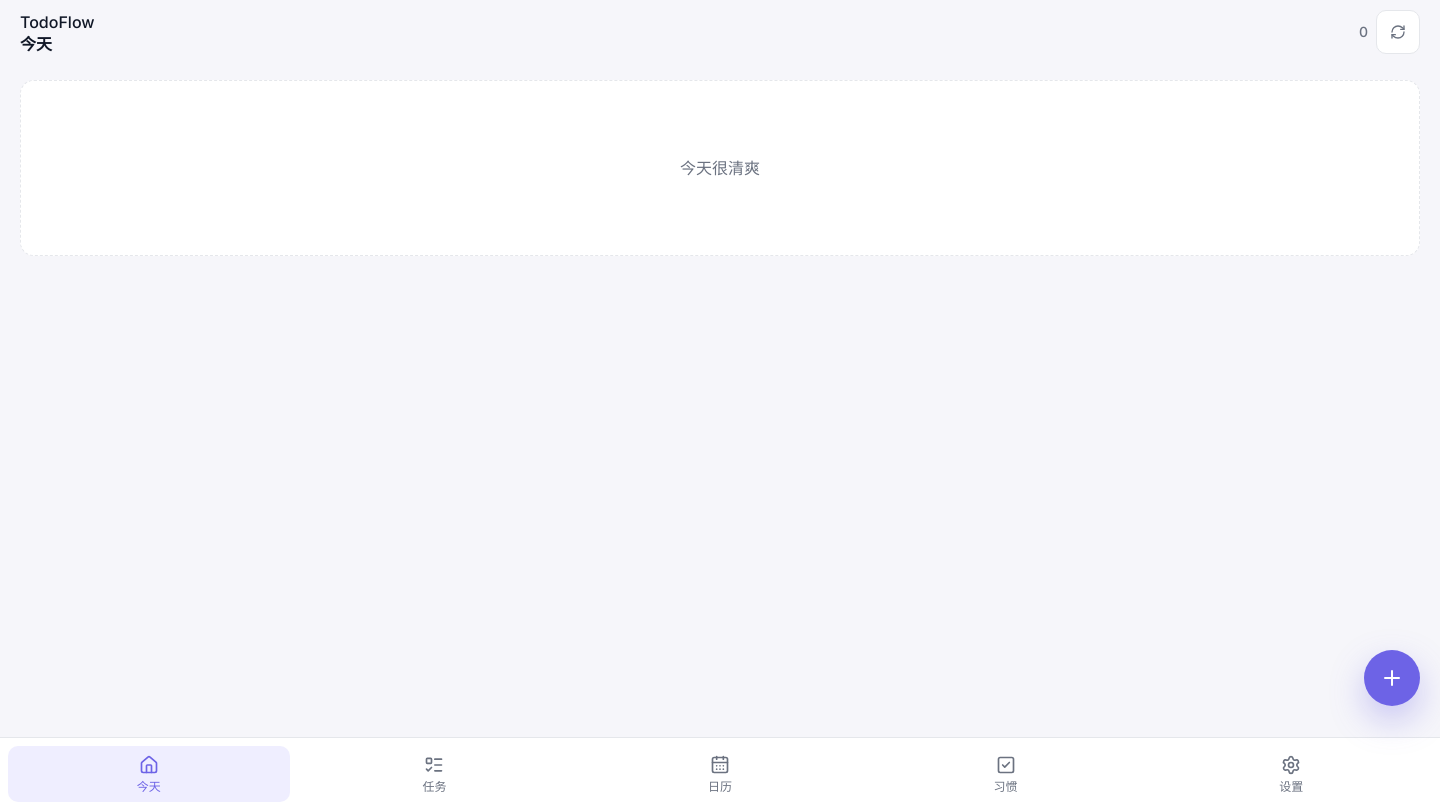
Mobile task experience › creates a task from the global mobile FAB
Click the button named "新增任务" at (1392, 678), box [1364,650,1420,706]
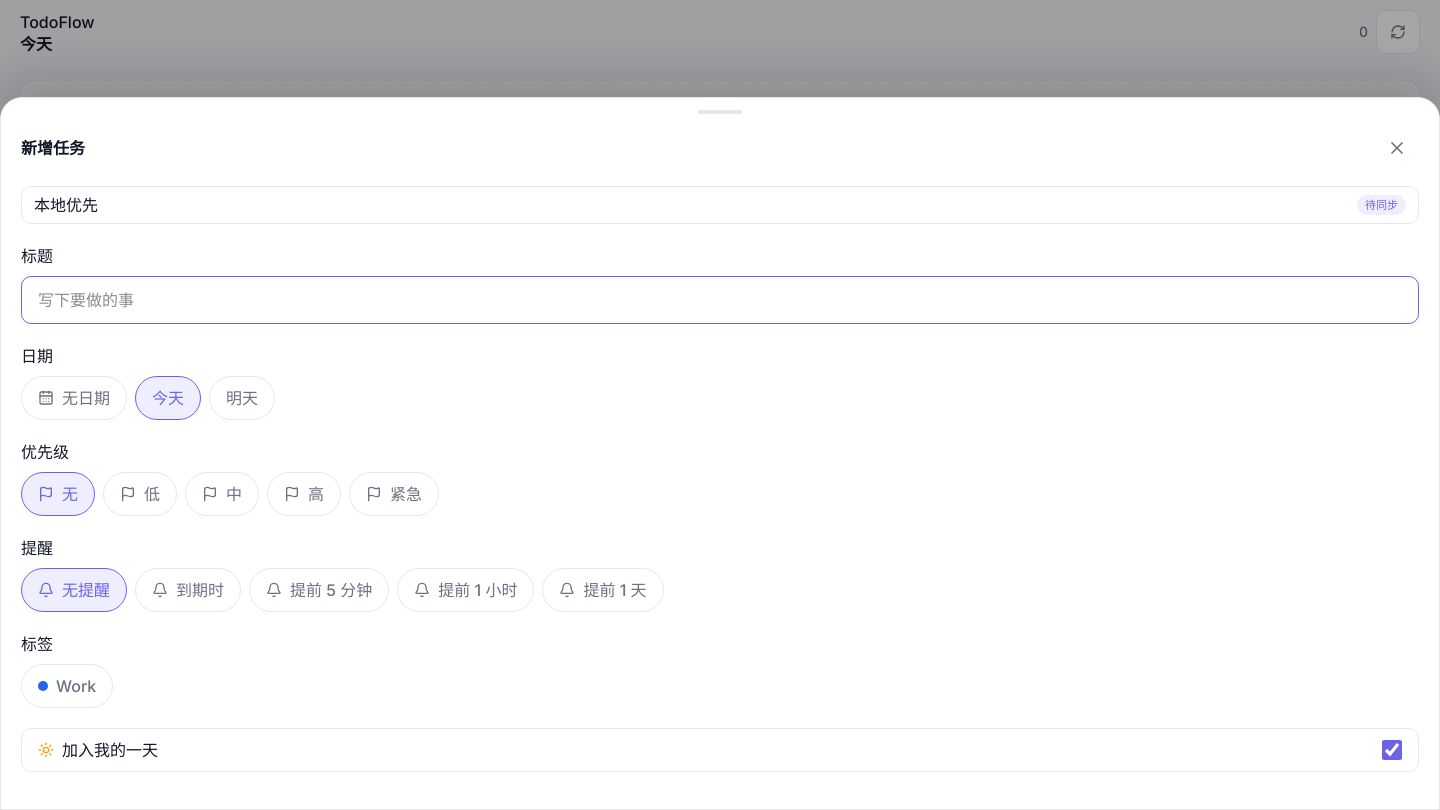
Type "买牛奶" into the field with placeholder "写下要做的事" at (720, 300), box [21,276,1419,324]
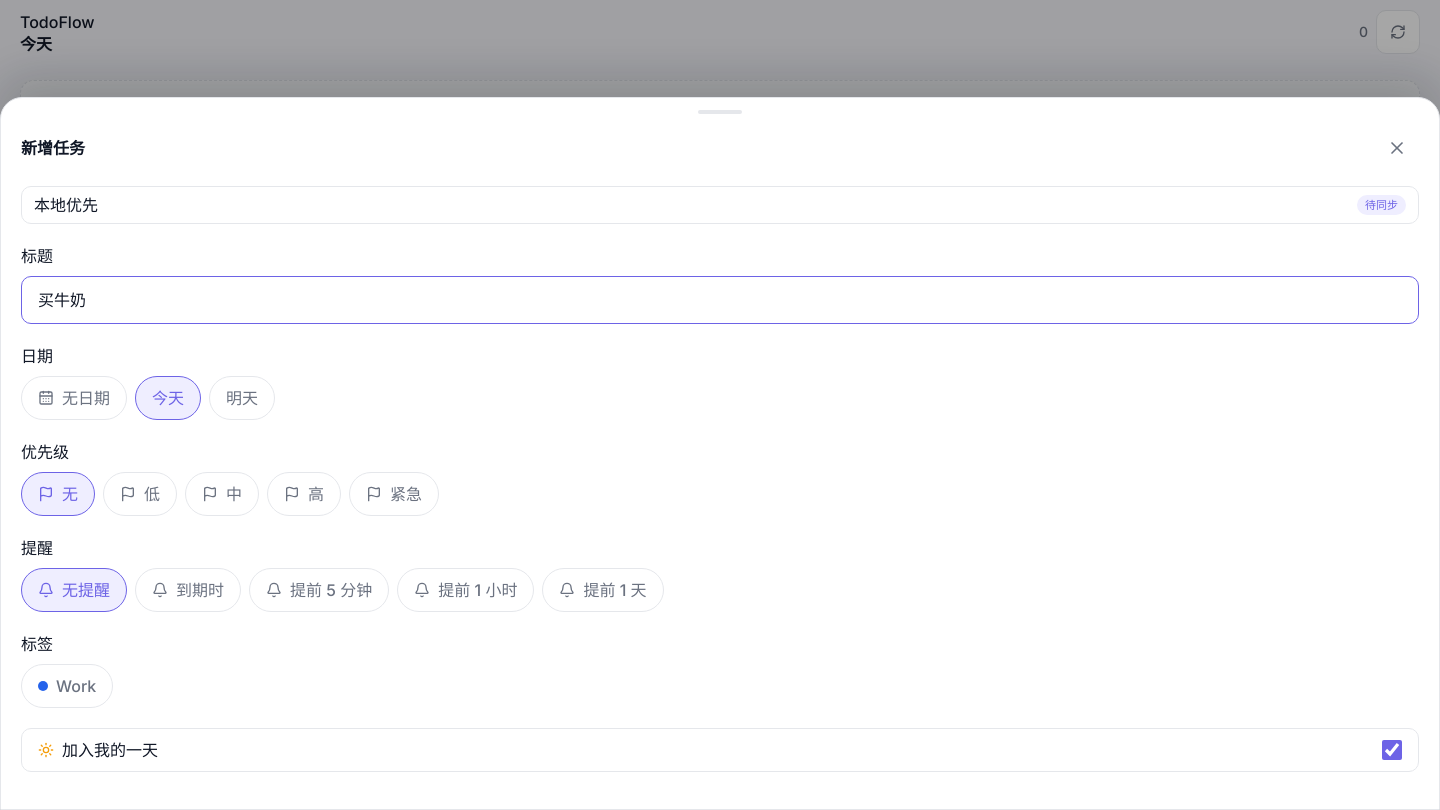
Click the button "高" at (304, 494), box [267,472,341,516]
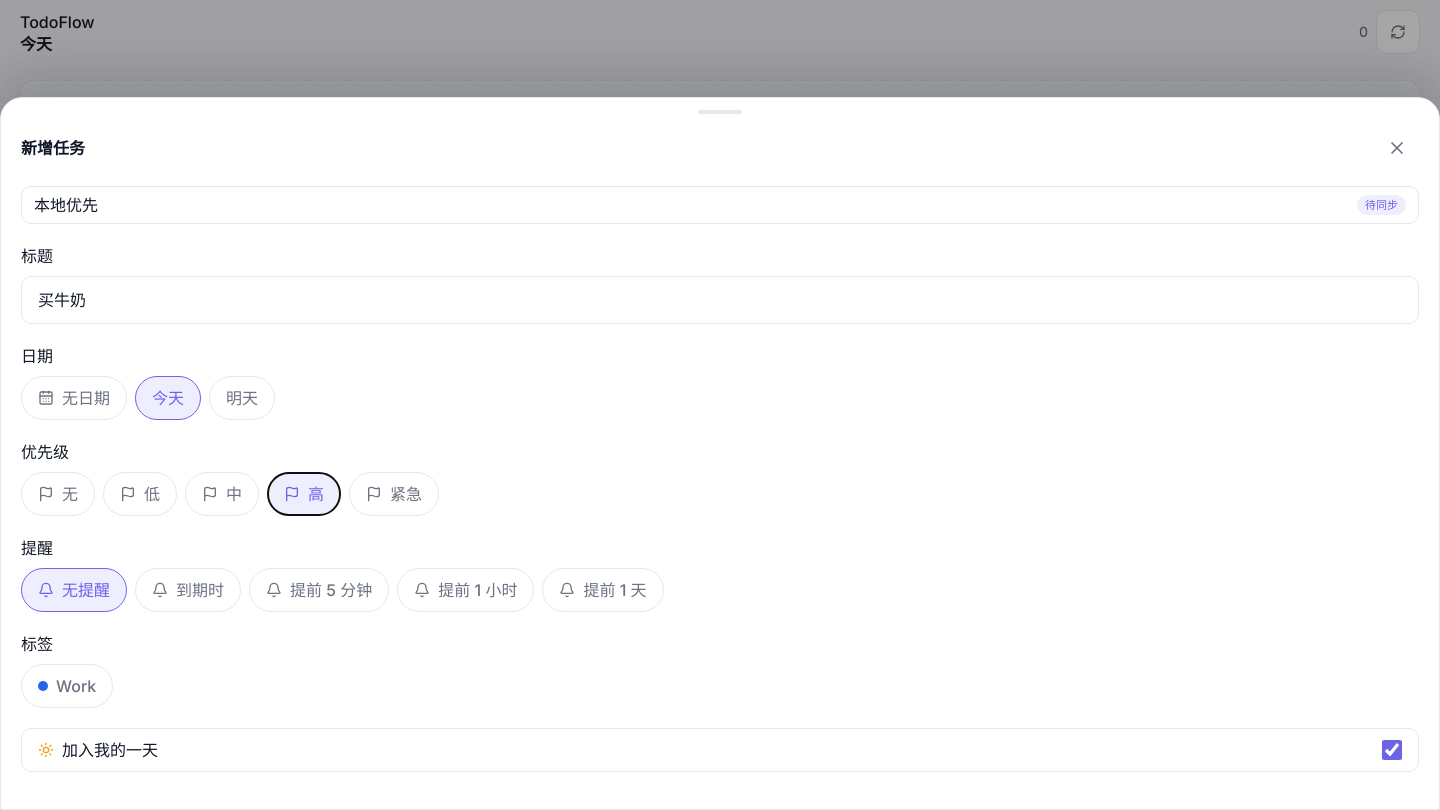
Click the button "到期时" at (188, 590), box [135,568,241,612]
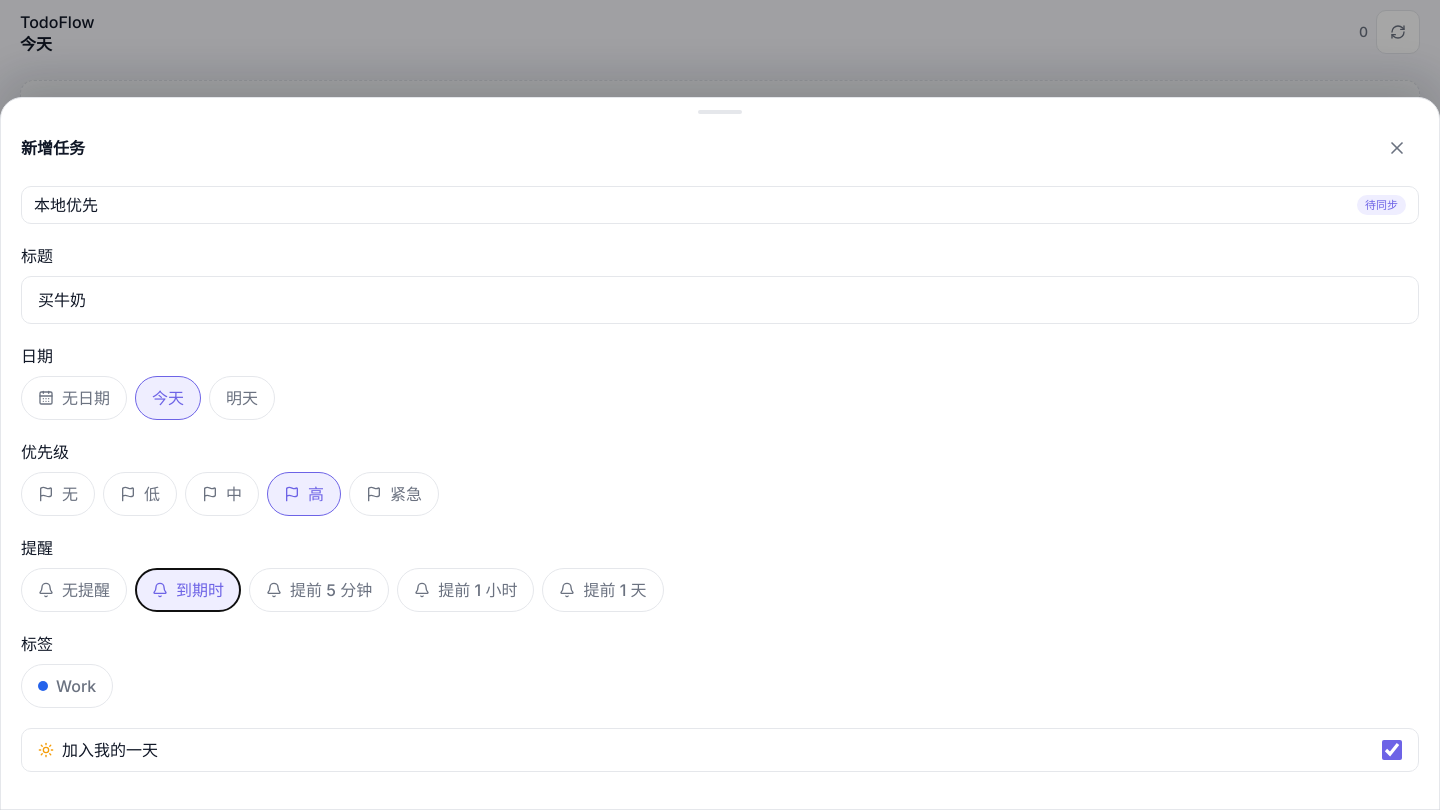
Click the button "Work" at (67, 686), box [21,664,113,708]
(page scrolled)
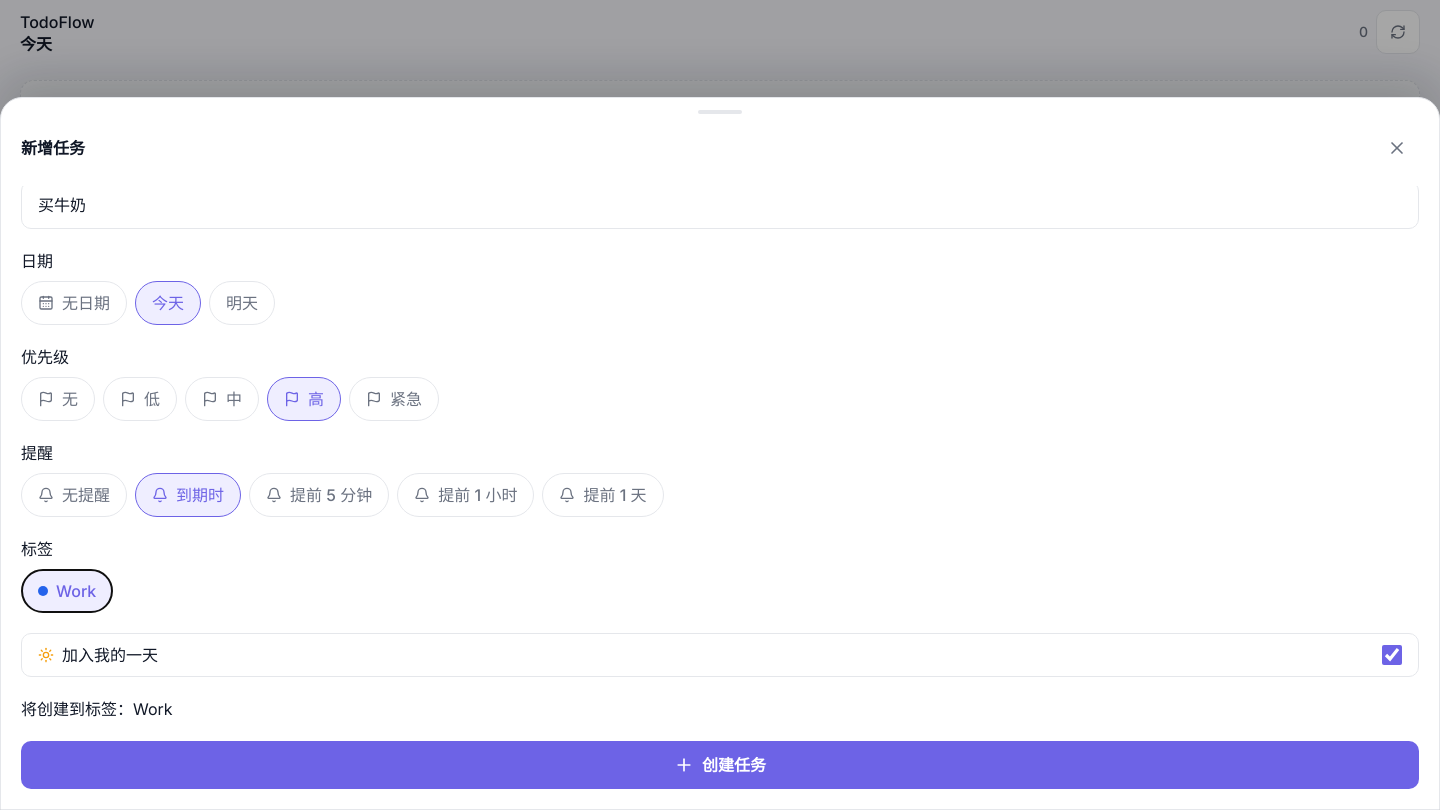
Click the button "创建任务" at (720, 765), box [21,741,1419,789]
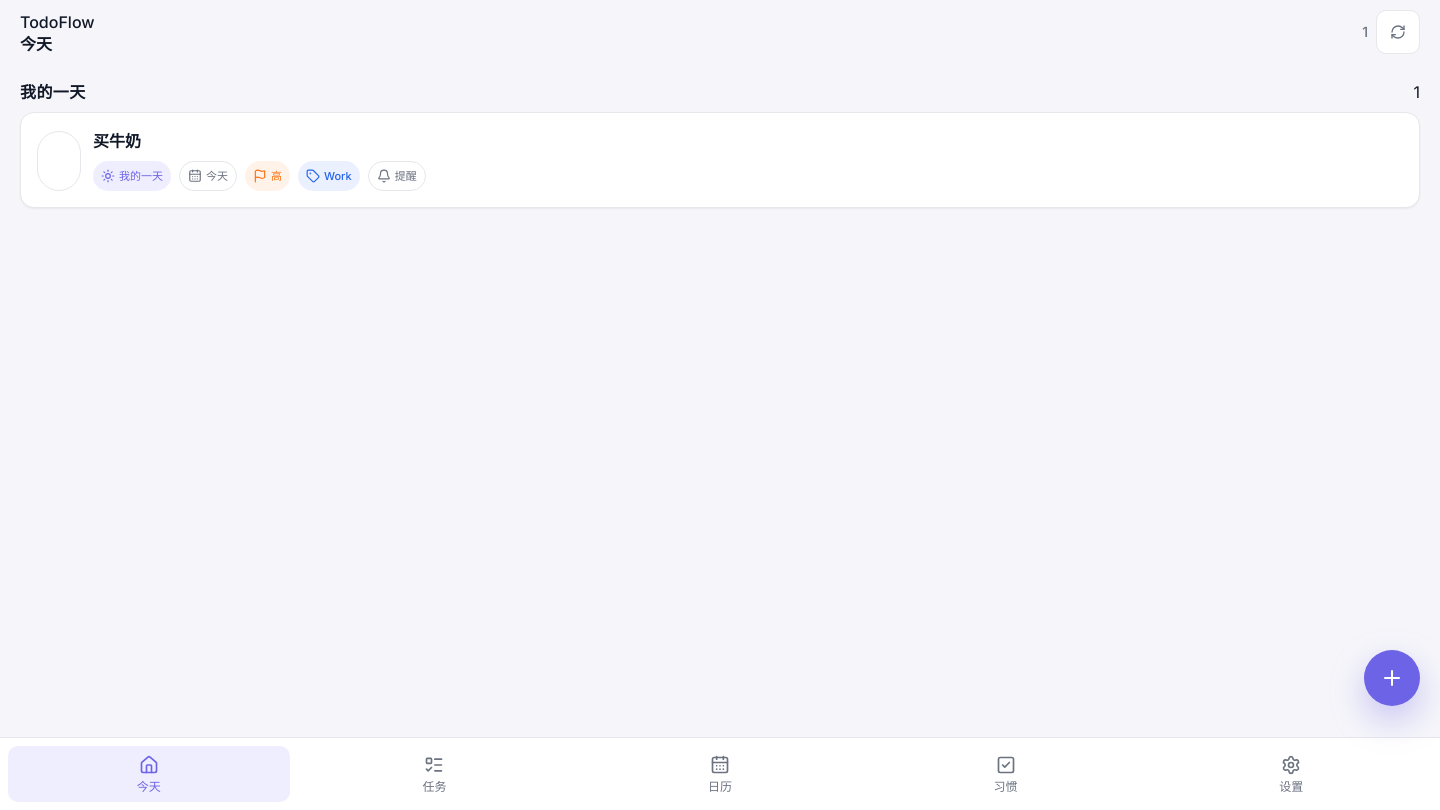
Expected: the text "高" is shown, [245,161,290,191]
Expected: the text "提醒" is shown, [368,161,426,191]
Expected: the heading "买牛奶" is shown, [93,131,141,151]
